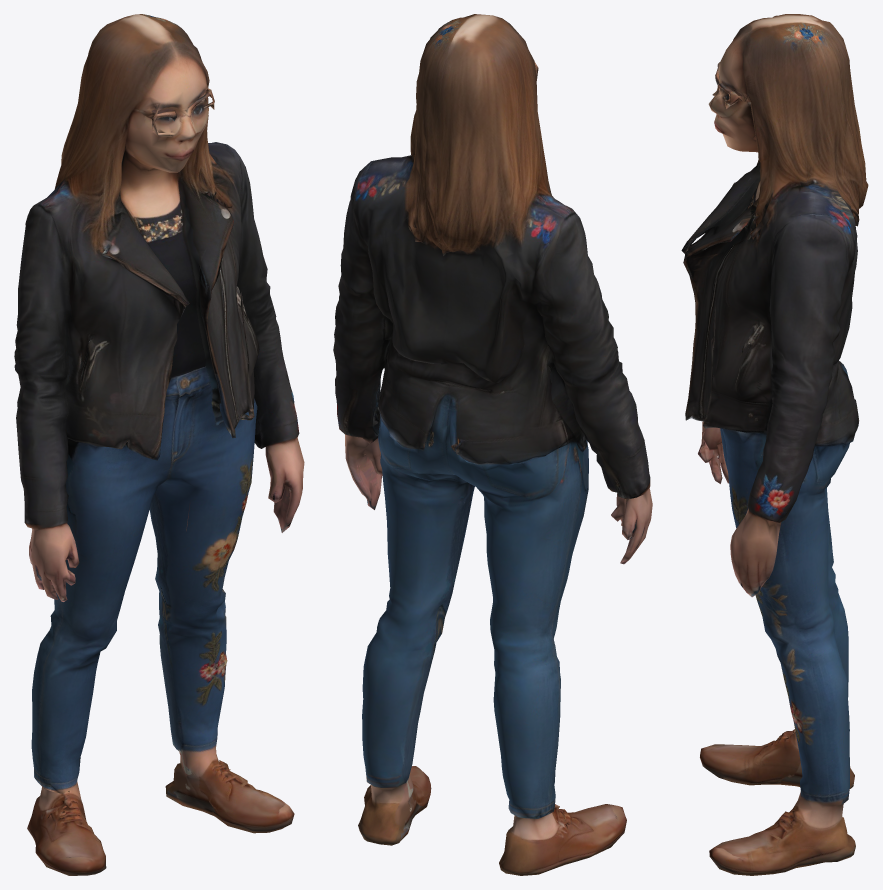
The model's file is Meshy_Model_20250604_204843.glb.
The picture shows the model from 3 angles, left to right: view 1: azimuth 30°, elevation 25°; view 2: azimuth 150°, elevation 25°; view 3: azimuth 270°, elevation 25°; orthographic projection.
Bounding box in the file's own units: 0.7385 × 2 × 0.4229.
1 material, 1 textured.
